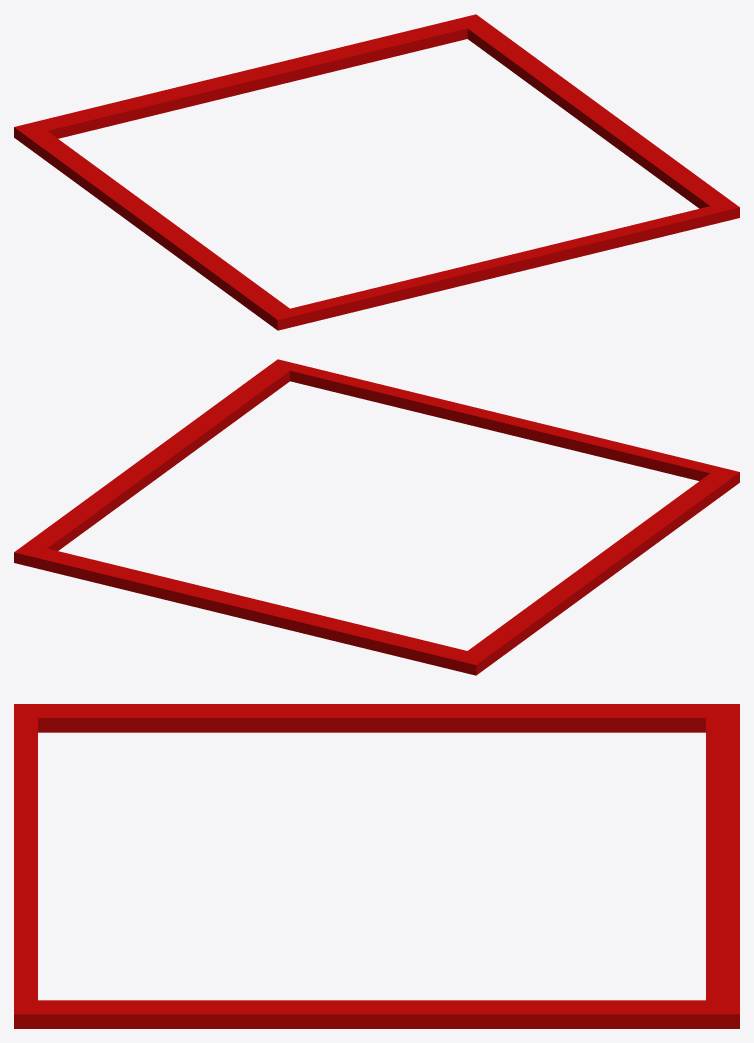
File: squarePlacer_red.fbx
The picture shows the model from 3 angles, top to bottom: view 1: azimuth 30°, elevation 25°; view 2: azimuth 150°, elevation 25°; view 3: azimuth 270°, elevation 25°; orthographic projection. The views are drawn at different scales.
Parts seen in each view (by area): view 1: polySurface1; view 2: polySurface1; view 3: polySurface1.
Boxes of the visible parts, x1,y1,x2,y2 form: polySurface1: [14, 14, 739, 330]; polySurface1: [14, 359, 739, 675]; polySurface1: [14, 704, 739, 1028].
Size of the model in its own units: 24.23 by 0.529 by 23.95.
Materials: 1 (1 with a texture image).
